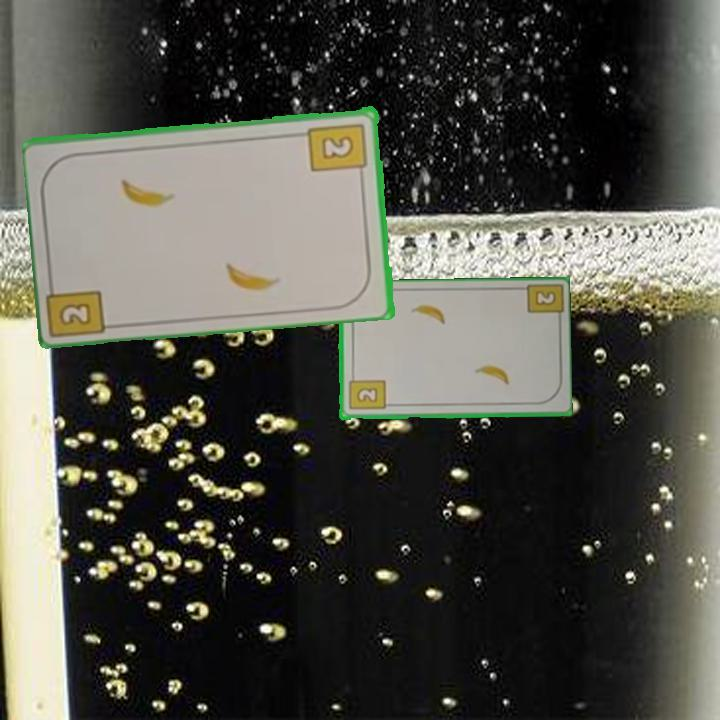2b: (46, 274, 111, 338), (306, 119, 370, 180), (345, 371, 387, 413), (531, 287, 559, 309)
